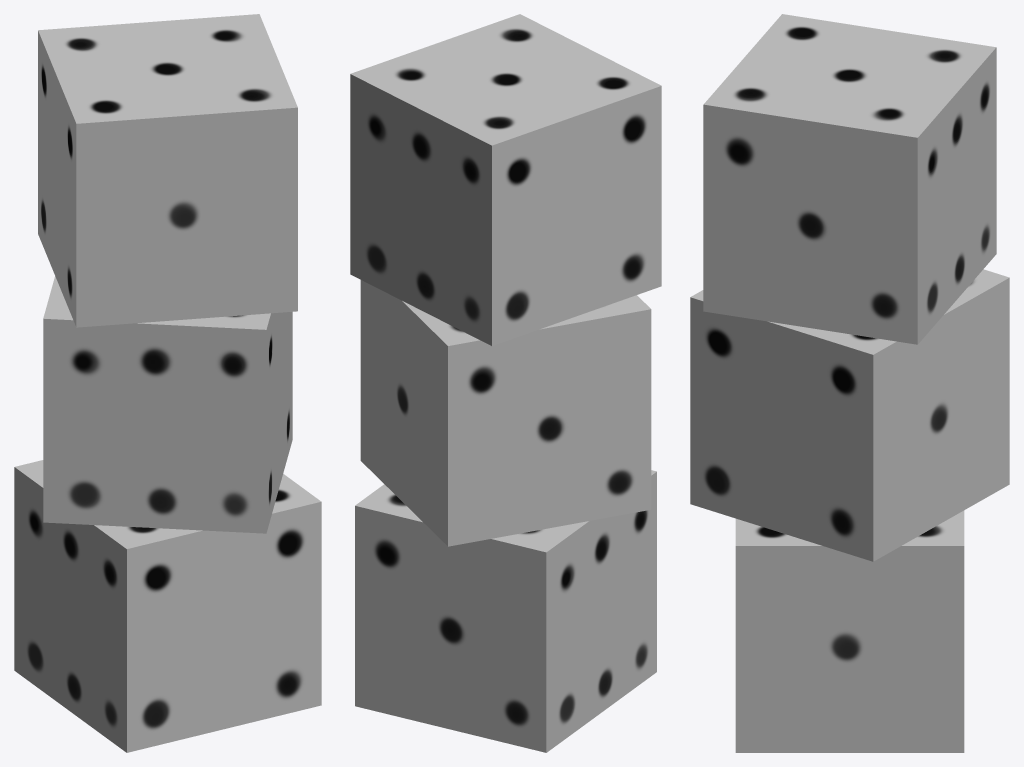
The model's file is d6_stack.glb.
3 views of the same model, side by side, from view 1: azimuth 30°, elevation 25°; view 2: azimuth 150°, elevation 25°; view 3: azimuth 270°, elevation 25° (orthographic). The views are drawn at different scales.
Parts seen in each view (by area): view 1: Cube.002, Cube, Cube.001; view 2: Cube.002, Cube, Cube.001; view 3: Cube.002, Cube.001, Cube.
Part boxes in pixels (x1,y1,x2,y2): Cube.002: (38, 14, 297, 327); Cube: (14, 460, 321, 752); Cube.001: (43, 276, 292, 533); Cube.002: (350, 14, 661, 345); Cube: (355, 470, 656, 752); Cube.001: (360, 280, 651, 546); Cube.002: (703, 14, 996, 344); Cube.001: (690, 269, 1009, 561); Cube: (735, 510, 964, 752).
Bounding box in the file's own units: 2.8 × 6.08 × 2.8.
1 material, 1 textured.
